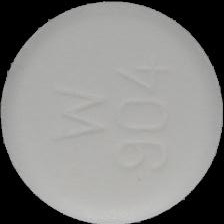33261-182: (0, 0, 224, 224)
